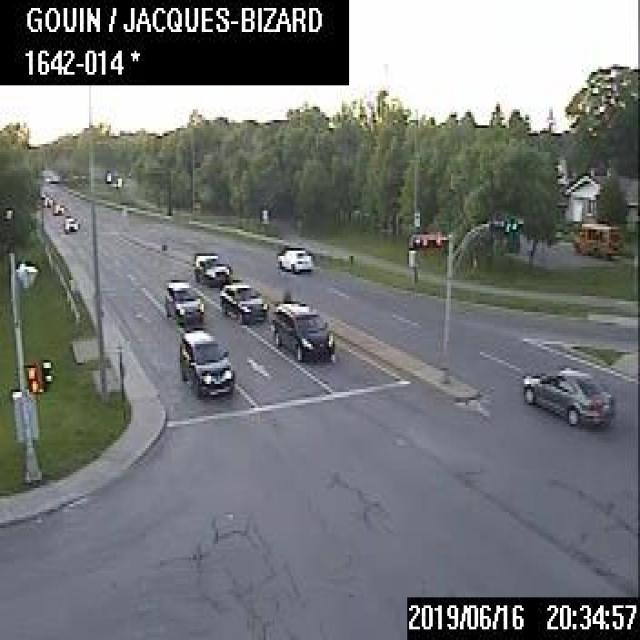bus: (572, 220, 622, 257)
vehicle: (521, 367, 612, 424), (271, 300, 333, 360), (178, 328, 233, 394), (218, 282, 266, 322), (164, 278, 202, 322), (193, 252, 229, 283), (276, 248, 311, 270), (62, 215, 78, 231), (50, 201, 61, 212), (42, 195, 51, 204)
